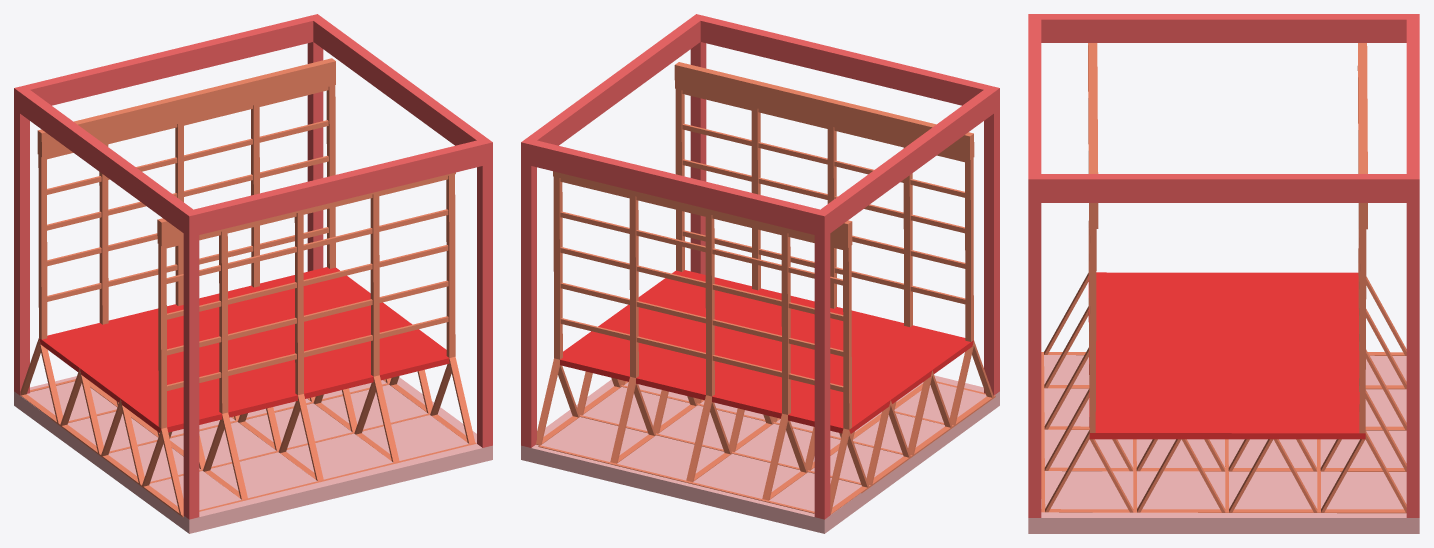
The picture shows the model from 3 angles, left to right: view 1: azimuth 30°, elevation 25°; view 2: azimuth 150°, elevation 25°; view 3: azimuth 270°, elevation 25°; orthographic projection. The views are drawn at different scales.
Visible parts, largest first — view 1: 物件_11, 物件_54, 物件_61, 物件_60, 物件_19, 物件_59, 物件_57, 物件_62, 物件_55, 物件_58, 物件_56, 物件_33 (+31 smaller); view 2: 物件_11, 物件_54, 物件_60, 物件_61, 物件_18, 物件_59, 物件_58, 物件_62, 物件_56, 物件_57, 物件_55, 物件_19 (+32 smaller); view 3: 物件_11, 物件_54, 物件_62, 物件_59, 物件_55, 物件_56, 物件_60, 物件_61, 物件_19, 物件_18, 物件_50, 物件_26 (+11 smaller).
Boxes of the visible parts, x1=… form: 物件_11: x1=39, y1=267, x2=449, y2=432; 物件_54: x1=14, y1=376, x2=492, y2=533; 物件_61: x1=184, y1=138, x2=492, y2=234; 物件_60: x1=14, y1=14, x2=320, y2=105; 物件_19: x1=37, y1=58, x2=335, y2=156; 物件_59: x1=14, y1=86, x2=199, y2=235; 物件_57: x1=183, y1=209, x2=199, y2=519; 物件_62: x1=313, y1=16, x2=492, y2=163; 物件_55: x1=477, y1=138, x2=492, y2=447; 物件_58: x1=14, y1=86, x2=29, y2=395; 物件_56: x1=307, y1=14, x2=323, y2=271; 物件_33: x1=446, y1=174, x2=455, y2=357; 物件_11: x1=560, y1=270, x2=973, y2=433; 物件_54: x1=521, y1=375, x2=999, y2=533; 物件_60: x1=521, y1=138, x2=829, y2=235; 物件_61: x1=691, y1=14, x2=999, y2=105; 物件_18: x1=674, y1=62, x2=974, y2=159; 物件_59: x1=814, y1=85, x2=999, y2=236; 物件_58: x1=814, y1=209, x2=830, y2=519; 物件_62: x1=521, y1=15, x2=700, y2=164; 物件_56: x1=521, y1=138, x2=536, y2=447; 物件_57: x1=984, y1=86, x2=999, y2=395; 物件_55: x1=690, y1=14, x2=706, y2=274; 物件_19: x1=553, y1=171, x2=852, y2=247; 物件_11: x1=1088, y1=272, x2=1365, y2=439; 物件_54: x1=1028, y1=355, x2=1419, y2=533; 物件_62: x1=1029, y1=174, x2=1418, y2=202; 物件_59: x1=1028, y1=14, x2=1418, y2=42; 物件_55: x1=1028, y1=174, x2=1041, y2=517; 物件_56: x1=1406, y1=174, x2=1419, y2=517; 物件_60: x1=1406, y1=14, x2=1419, y2=202; 物件_61: x1=1028, y1=14, x2=1041, y2=202; 物件_19: x1=1357, y1=43, x2=1367, y2=229; 物件_18: x1=1088, y1=43, x2=1098, y2=228; 物件_50: x1=1041, y1=509, x2=1406, y2=513; 物件_26: x1=1359, y1=229, x2=1366, y2=433.
Bounding box in the file's own units: 48.19 × 48 × 48.
